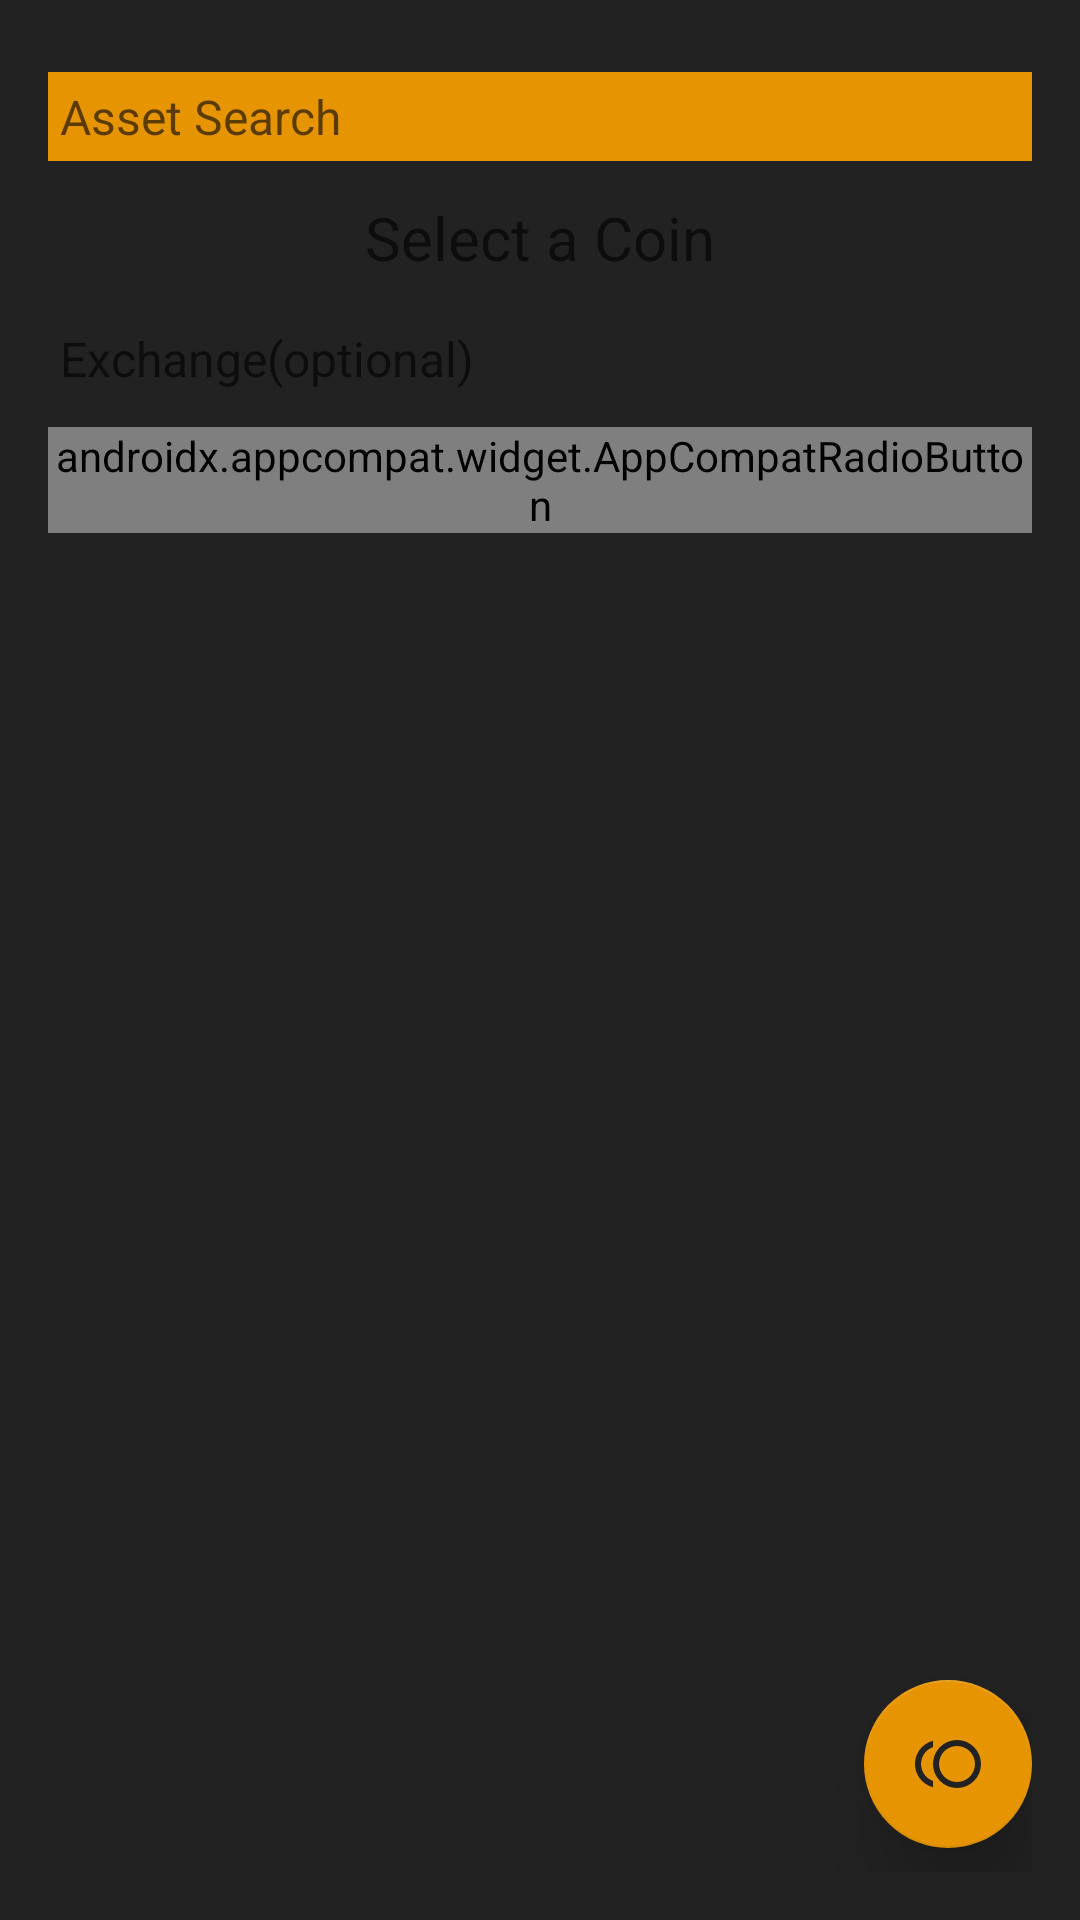

Named icons in this screenshot (1080 x 1920) and their centers, point (x, y):
coins: point (948, 1764)
